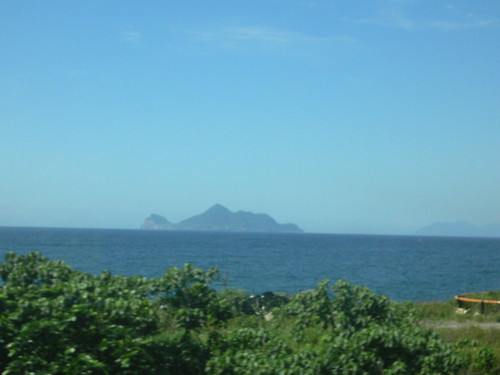turtleIslandLeft: (138, 202, 303, 234)
